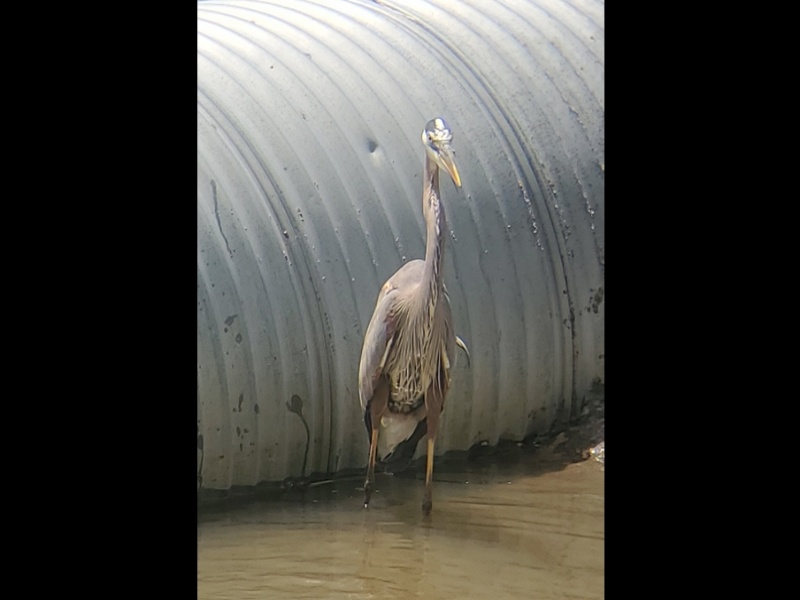heron: (355, 115, 467, 477)
